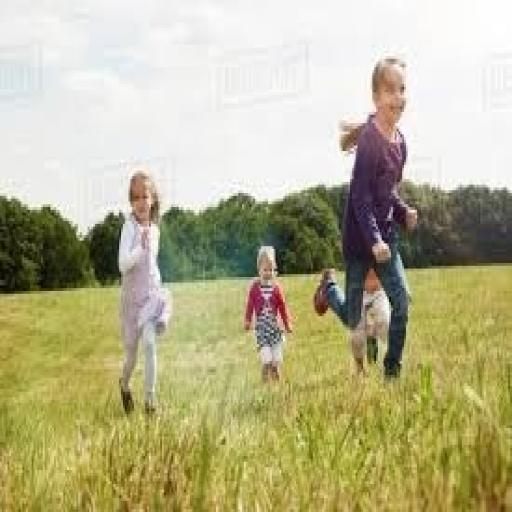running: (313, 53, 421, 386), (114, 165, 175, 420), (240, 241, 296, 389)
